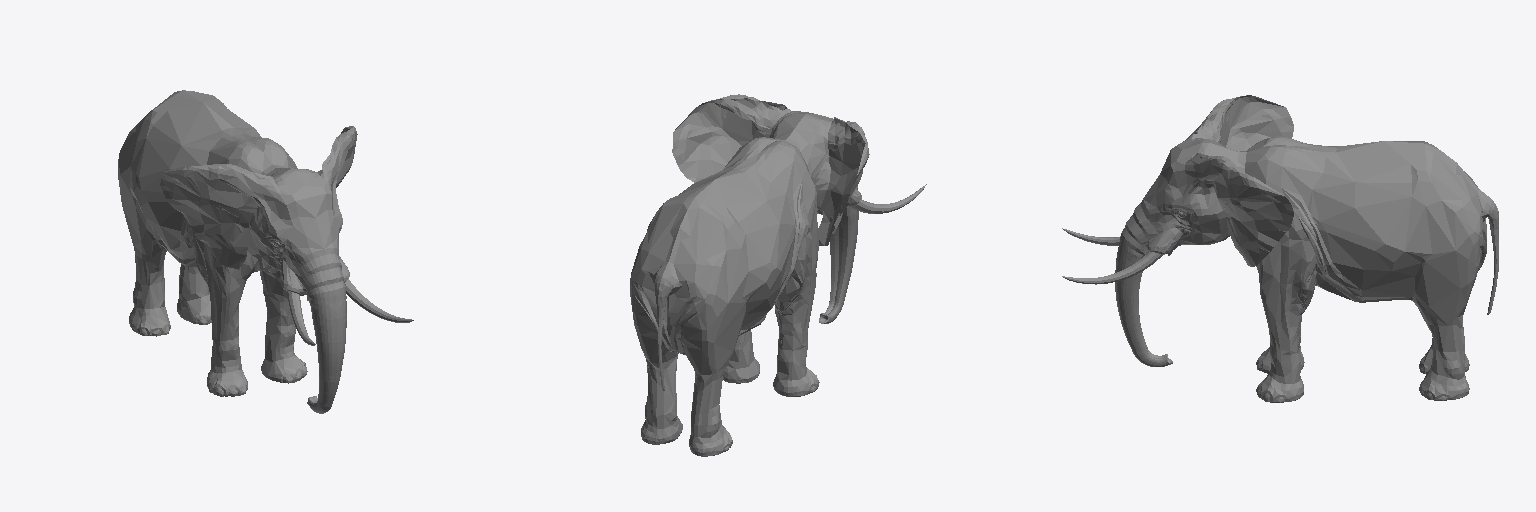
The model's file is elephal.obj.
3 renders of one model, left to right at view 1: azimuth 30°, elevation 25°; view 2: azimuth 150°, elevation 25°; view 3: azimuth 270°, elevation 25°, orthographic.
Size of the model in its own units: 547 by 715 by 1131.